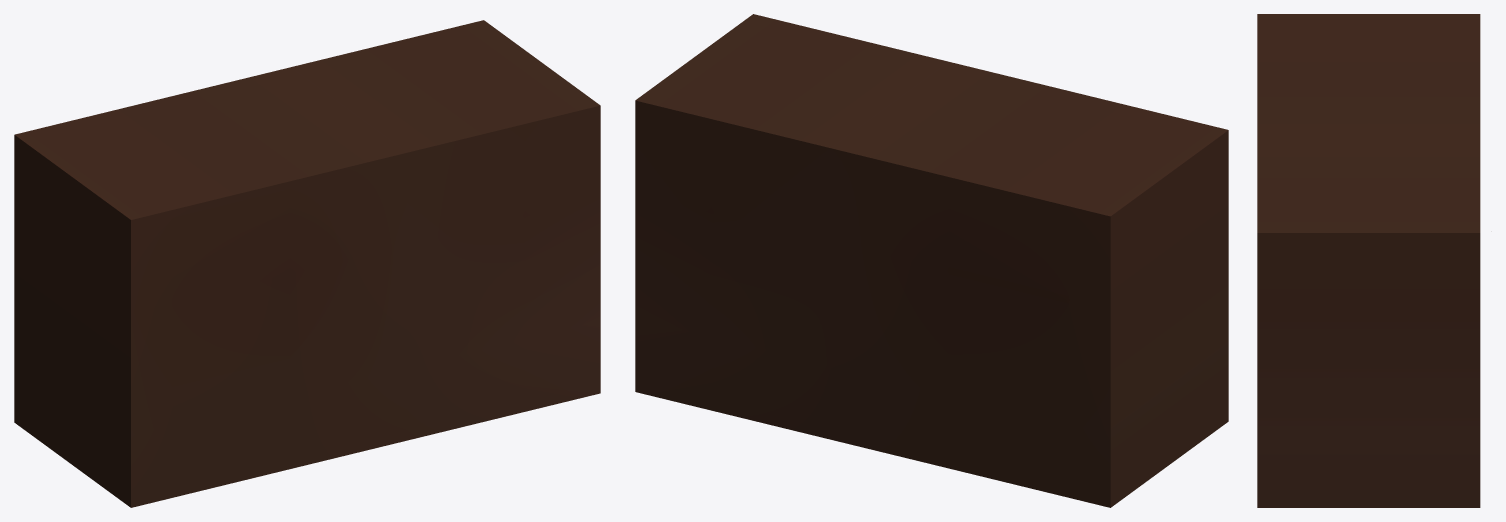
Rendered from Kiste_LOD0.dae.
3 views of the same model, side by side, from view 1: azimuth 30°, elevation 25°; view 2: azimuth 150°, elevation 25°; view 3: azimuth 270°, elevation 25° (orthographic). The views are drawn at different scales.
Parts seen in each view (by area): view 1: Kiste_LOD0; view 2: Kiste_LOD0; view 3: Kiste_LOD0.
Part boxes in pixels (x1,y1,x2,y2): Kiste_LOD0: (14,20,600,507); Kiste_LOD0: (635,14,1228,507); Kiste_LOD0: (1257,14,1480,507).
Size of the model in its own units: 0.9 by 0.407 by 0.5306.
1 material, 1 textured.
